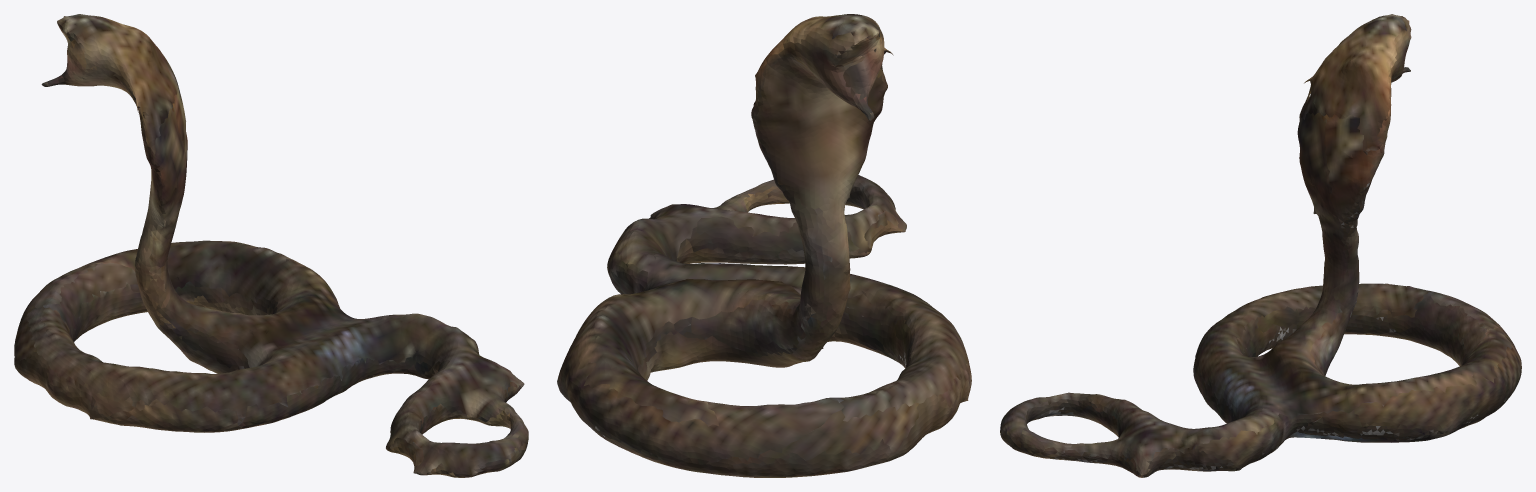
File: model_NewObject_20170510_153801054.obj
3 views of the same model, side by side, from view 1: azimuth 30°, elevation 25°; view 2: azimuth 150°, elevation 25°; view 3: azimuth 270°, elevation 25° (orthographic). The views are drawn at different scales.
Bounding box in the file's own units: 48.13 × 44.55 × 64.05.
1 material, 1 textured.
